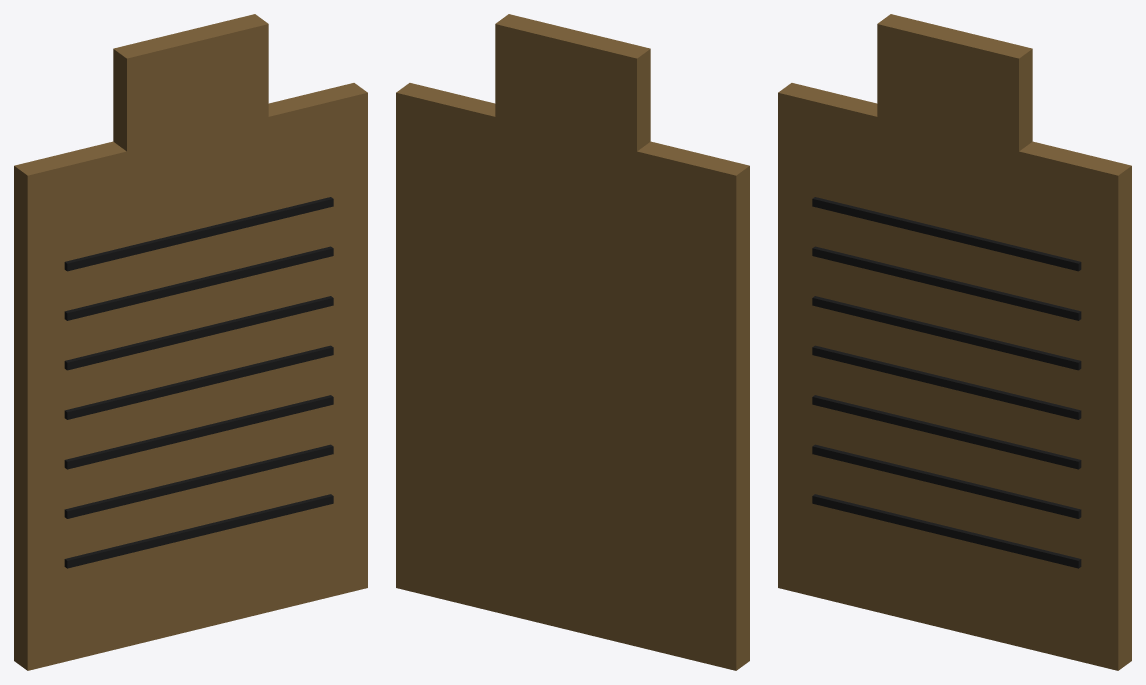
3 renders of one model, left to right at view 1: azimuth 30°, elevation 25°; view 2: azimuth 150°, elevation 25°; view 3: azimuth 330°, elevation 25°, orthographic.
Parts seen in each view (by area): view 1: OBJ-020 — DEMO NON_VALIDE; view 2: OBJ-020 — DEMO NON_VALIDE; view 3: OBJ-020 — DEMO NON_VALIDE.
Boxes of the visible parts, left/top/right/bottom form: OBJ-020 — DEMO NON_VALIDE: left=14, top=14, right=367, bottom=670; OBJ-020 — DEMO NON_VALIDE: left=396, top=14, right=749, bottom=670; OBJ-020 — DEMO NON_VALIDE: left=778, top=14, right=1131, bottom=670.
Bounding box in the file's own units: 1.21 × 2 × 0.1.
